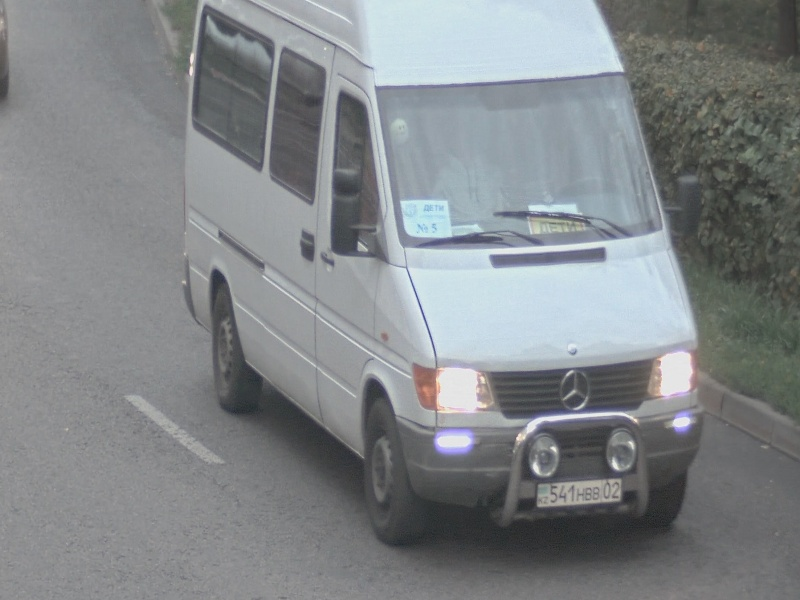plate: (535, 475, 623, 510)
